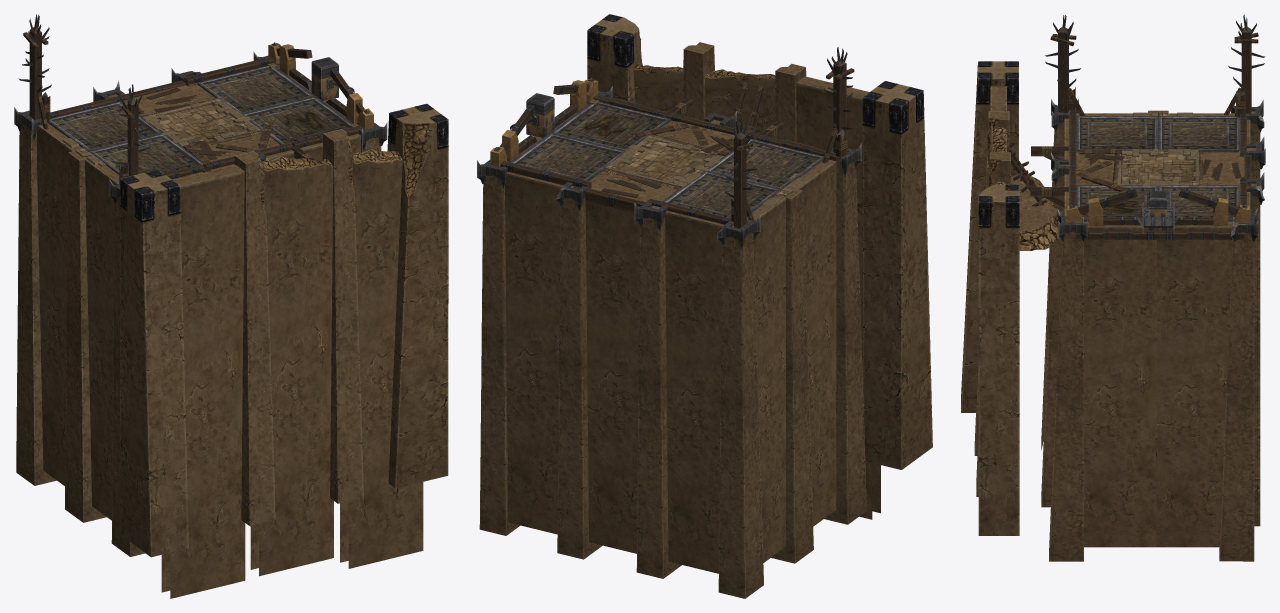
File: Cell2LU.fbx
3 views of the same model, side by side, from view 1: azimuth 30°, elevation 25°; view 2: azimuth 150°, elevation 25°; view 3: azimuth 270°, elevation 25° (orthographic). The views are drawn at different scales.
Visible parts, largest first — view 1: Cell2LU1; view 2: Cell2LU1; view 3: Cell2LU1.
Part boxes in pixels (x1,y1,x2,y2): Cell2LU1: [14, 14, 448, 598]; Cell2LU1: [477, 14, 932, 598]; Cell2LU1: [961, 14, 1265, 561].
Bounding box in the file's own units: 16.25 × 25.26 × 14.87.
